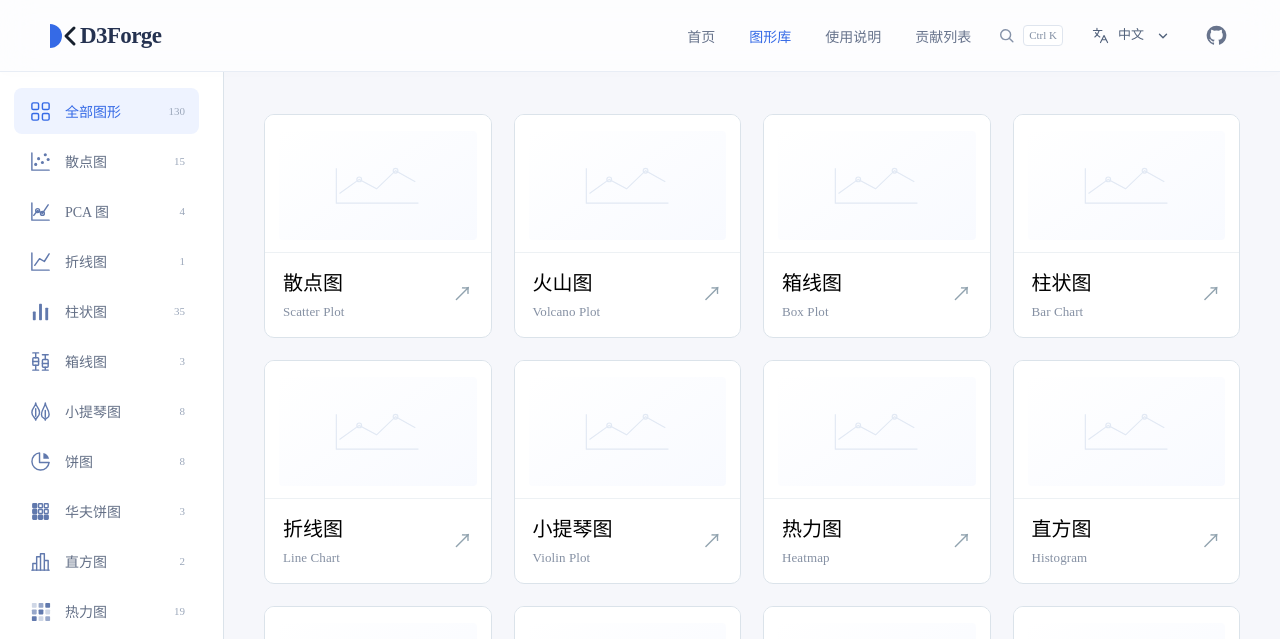
Test: chart library navigation › opens the library with chart cards and filters by sidebar category
Click the button "箱线图 3": click(106, 361) x1=14 y1=338 x2=199 y2=384
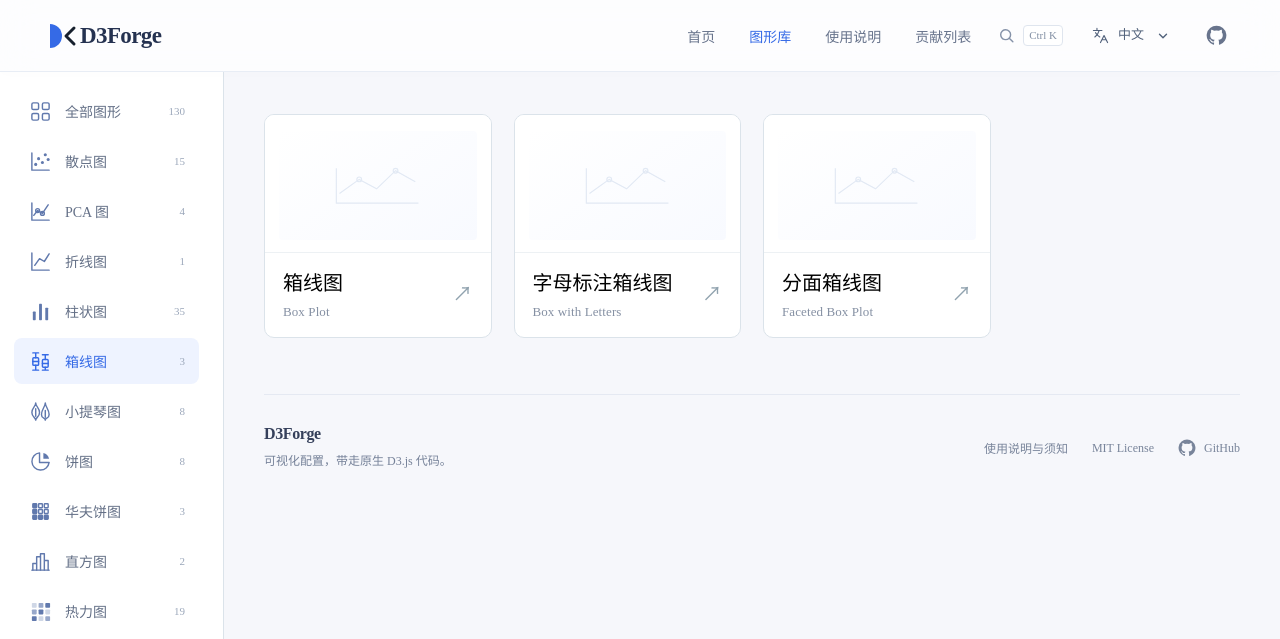
Expected: the number of links with class "chart-card" is 3, x1=264 y1=114 x2=492 y2=338; x1=514 y1=114 x2=741 y2=338; x1=763 y1=114 x2=990 y2=338
